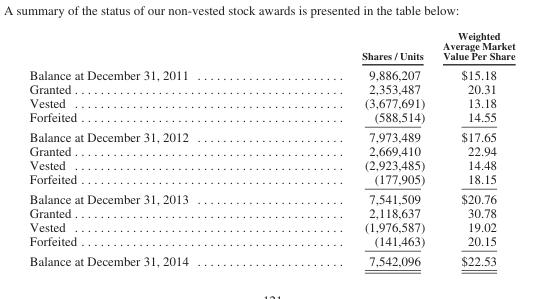table: (28, 29, 514, 267)
table column: (28, 29, 274, 267), (274, 29, 433, 267), (433, 29, 514, 267)
table column header: (28, 29, 514, 64)
table row: (28, 29, 514, 64), (28, 64, 514, 81), (28, 109, 514, 126), (28, 126, 514, 143), (28, 171, 514, 188), (28, 188, 514, 205), (28, 233, 514, 250), (28, 250, 514, 267), (28, 81, 514, 95), (28, 95, 514, 109), (28, 143, 514, 157), (28, 157, 514, 171), (28, 205, 514, 219), (28, 219, 514, 233)
